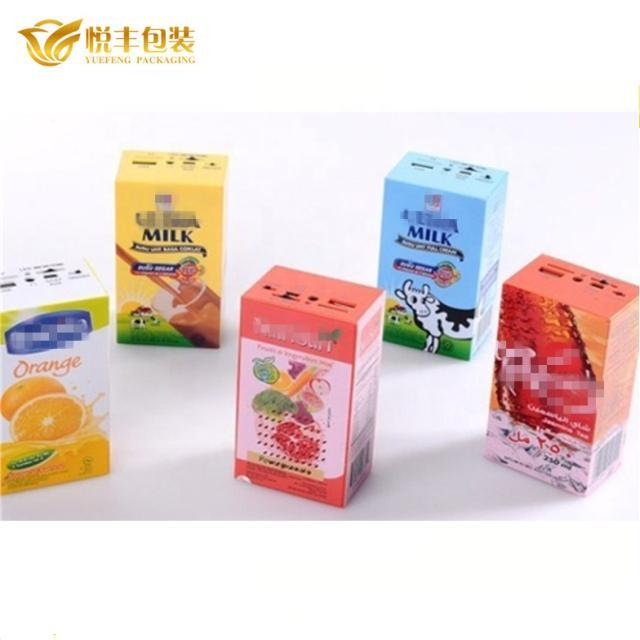Tetra: (485, 250, 640, 533), (241, 256, 396, 508), (0, 249, 118, 525), (102, 138, 234, 377), (365, 135, 503, 361)
